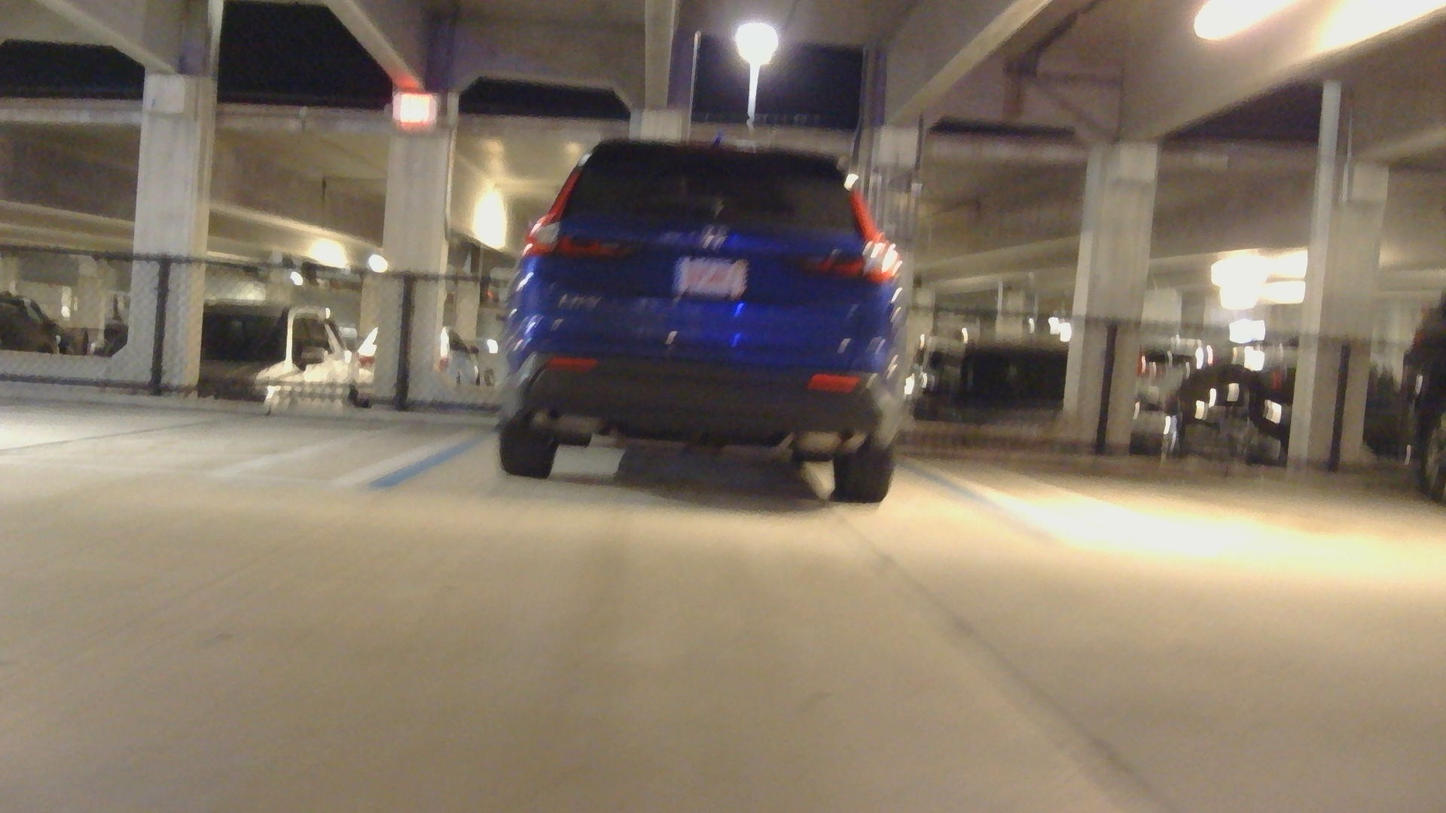empty_spot: (928, 354, 1446, 559), (0, 307, 471, 493)
occupied_spot: (483, 115, 928, 509), (1392, 277, 1445, 530)
